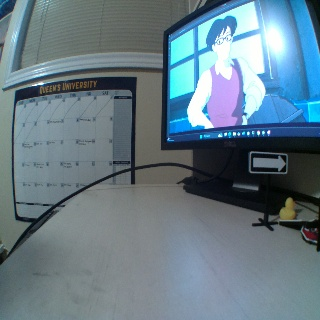sign_oneway_right: (248, 149, 287, 173)
